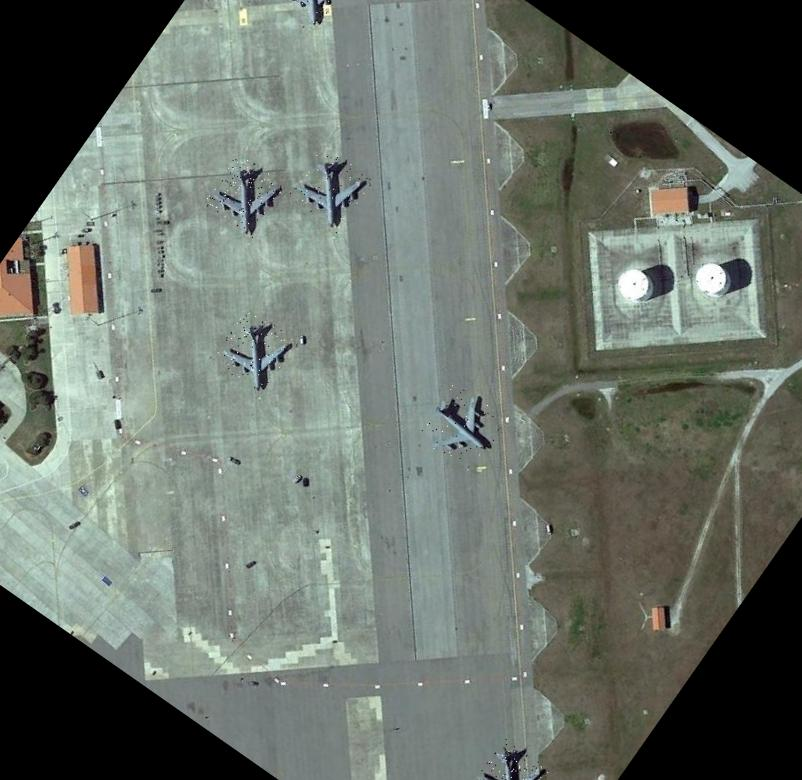A14: (415, 380, 510, 476), (210, 306, 299, 396), (286, 145, 374, 234), (201, 152, 288, 240), (470, 738, 552, 780), (266, 0, 353, 30)
